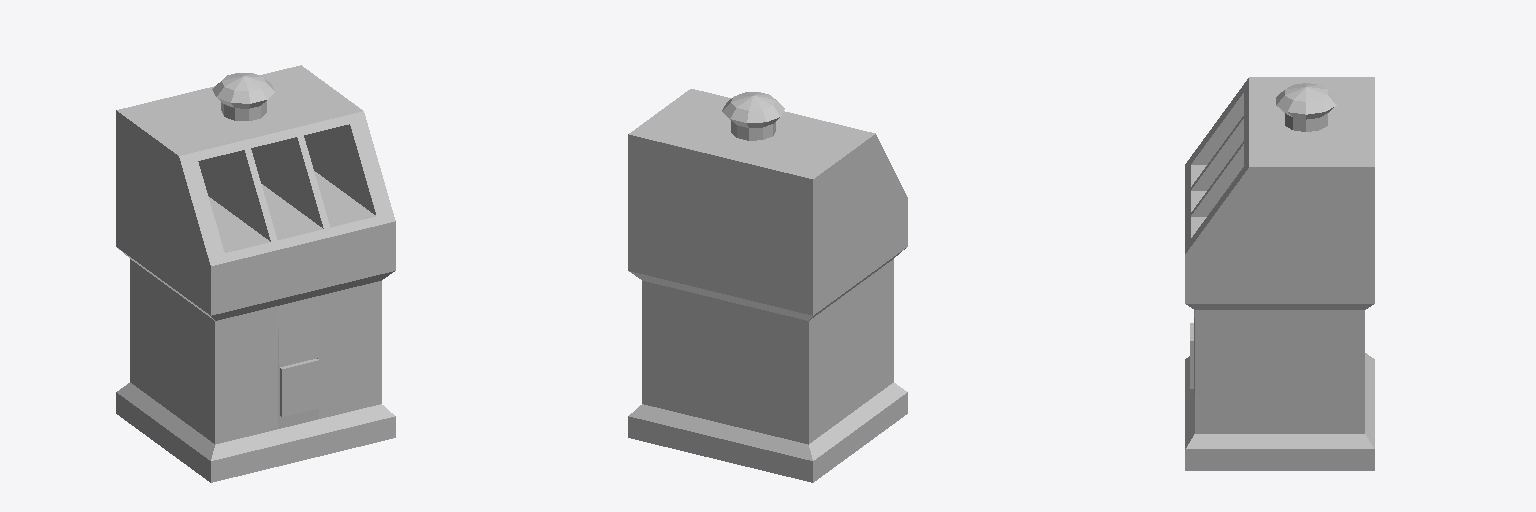
File: Slot_Machine_Momche_Challenge.obj
3 renders of one model, left to right at view 1: azimuth 30°, elevation 25°; view 2: azimuth 150°, elevation 25°; view 3: azimuth 270°, elevation 25°, orthographic.
Parts seen in each view (by area): view 1: Object__19, Object__15, Object__13, Object__9, Object__17; view 2: Object__19, Object__15, Object__9, Object__17; view 3: Object__19, Object__15, Object__9.
Boxes of the visible parts, x1,y1,x2,y2 form: Object__19: [116, 65, 395, 482]; Object__15: [130, 259, 381, 444]; Object__13: [280, 359, 319, 416]; Object__9: [212, 73, 274, 120]; Object__17: [217, 83, 274, 108]; Object__19: [628, 89, 907, 482]; Object__15: [642, 259, 893, 444]; Object__9: [722, 92, 784, 140]; Object__17: [722, 99, 776, 127]; Object__19: [1185, 77, 1374, 470]; Object__15: [1194, 310, 1364, 433]; Object__9: [1285, 83, 1327, 131].
Size of the model in its own units: 1.06 by 1.86 by 0.939.